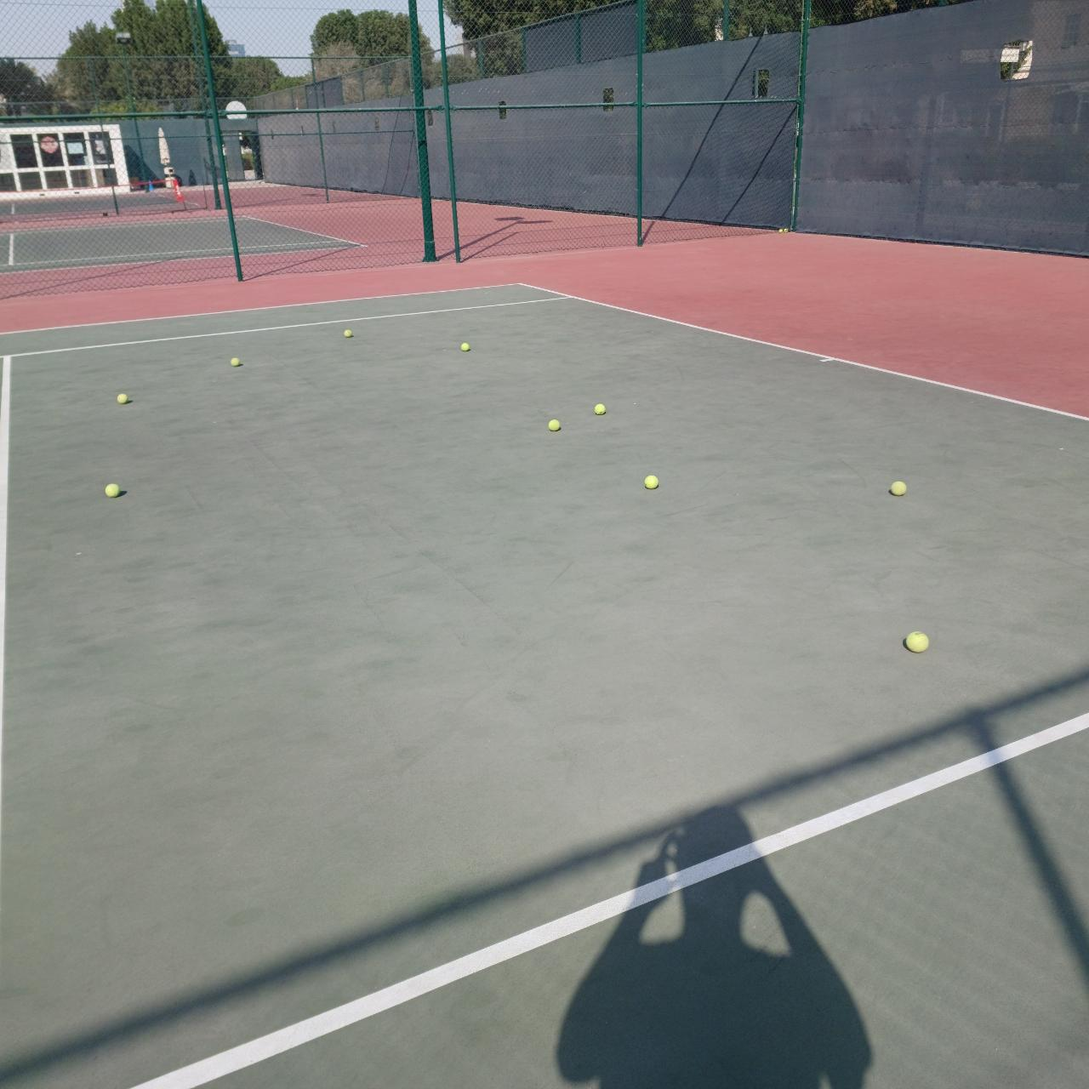tennis-ball: (903, 630, 929, 653), (887, 478, 907, 496), (641, 472, 659, 489), (103, 481, 120, 498), (545, 418, 561, 431), (592, 402, 606, 414), (115, 391, 129, 403), (228, 355, 242, 367), (341, 326, 353, 337), (459, 340, 470, 351), (778, 228, 783, 233), (784, 228, 788, 233)
